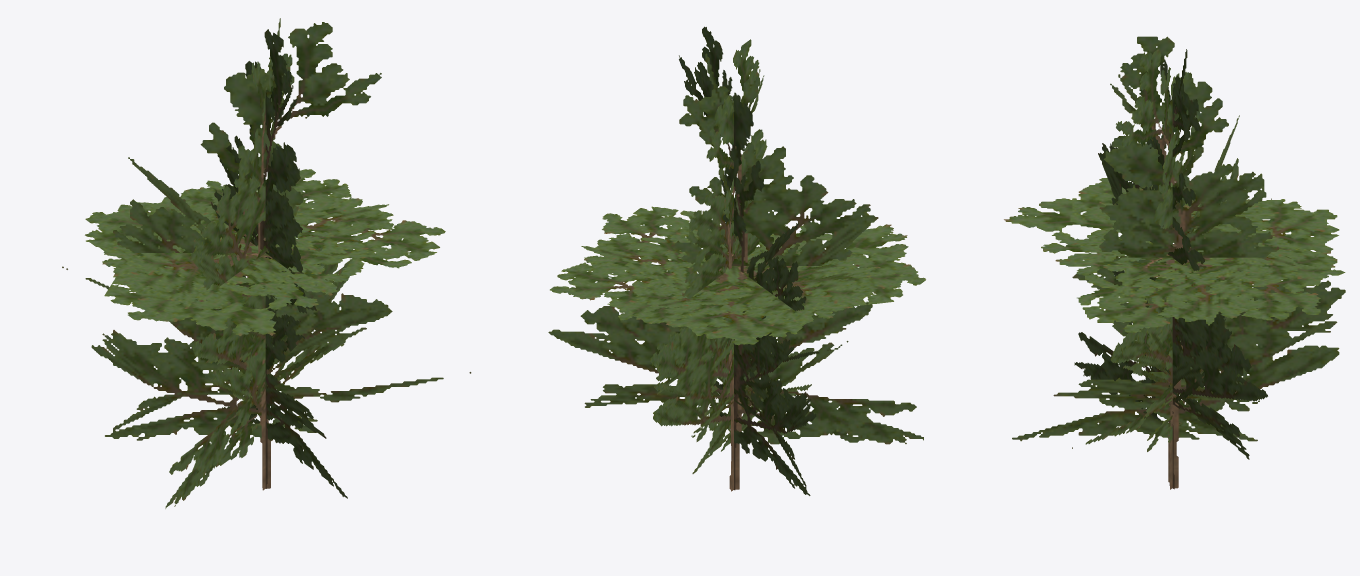
The picture shows the model from 3 angles, left to right: view 1: azimuth 30°, elevation 25°; view 2: azimuth 150°, elevation 25°; view 3: azimuth 270°, elevation 25°; orthographic projection. The views are drawn at different scales.
Parts seen in each view (by area): view 1: Pine_sapling_2_Billboard_LOD3_Pine_sapling_2_Billboard_Mat_0; view 2: Pine_sapling_2_Billboard_LOD3_Pine_sapling_2_Billboard_Mat_0; view 3: Pine_sapling_2_Billboard_LOD3_Pine_sapling_2_Billboard_Mat_0.
Boxes of the visible parts, x1=… form: Pine_sapling_2_Billboard_LOD3_Pine_sapling_2_Billboard_Mat_0: x1=62, y1=18, x2=471, y2=508; Pine_sapling_2_Billboard_LOD3_Pine_sapling_2_Billboard_Mat_0: x1=548, y1=26, x2=925, y2=495; Pine_sapling_2_Billboard_LOD3_Pine_sapling_2_Billboard_Mat_0: x1=1004, y1=36, x2=1345, y2=489.
Bounding box in the file's own units: 1.13 × 1.55 × 1.05.
